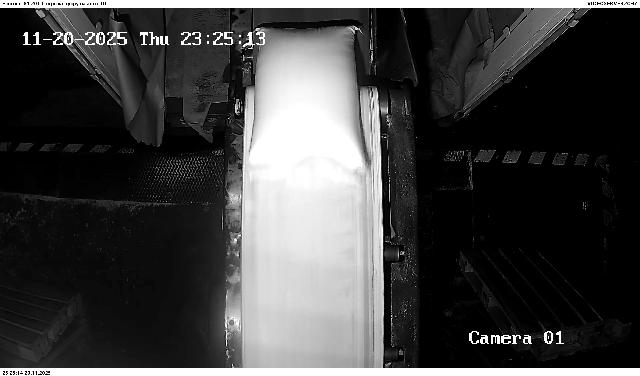bag: (250, 25, 366, 172)
